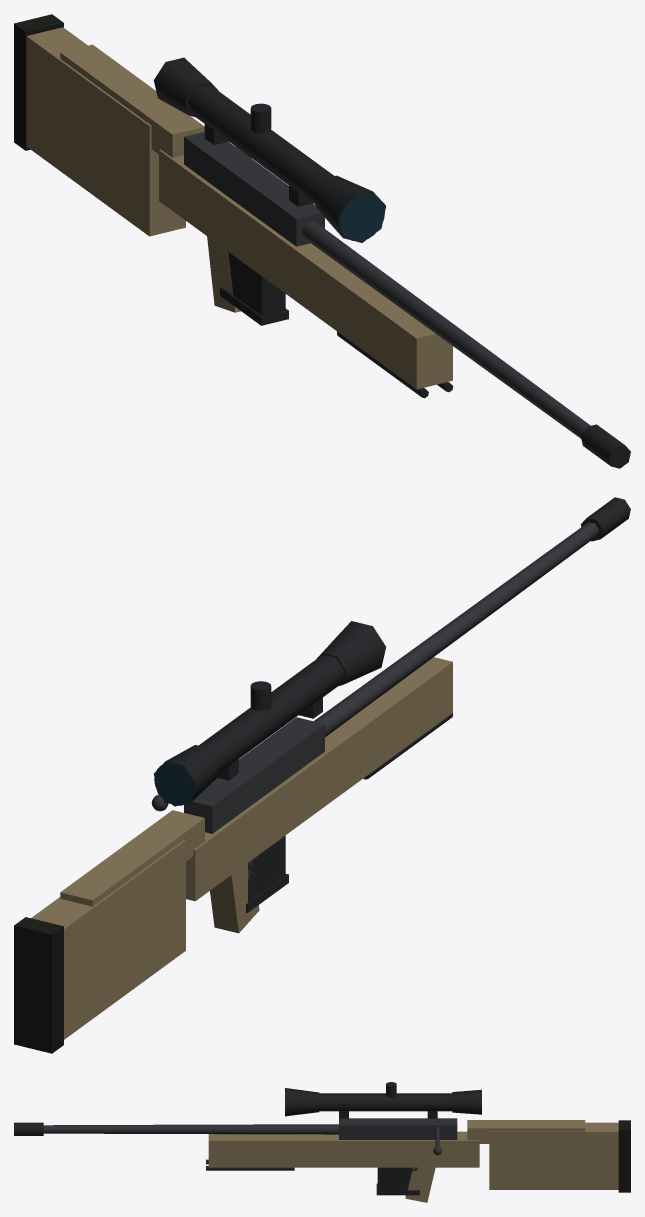
File: sniper_rifle_lod.glb
The picture shows the model from 3 angles, top to bottom: view 1: azimuth 30°, elevation 25°; view 2: azimuth 150°, elevation 25°; view 3: azimuth 270°, elevation 25°; orthographic projection. The views are drawn at different scales.
Visible parts, largest first — view 1: SniperRifleMesh; view 2: SniperRifleMesh; view 3: SniperRifleMesh.
Part boxes in pixels (box(x1,y1,x2,y2)): SniperRifleMesh: box(14, 14, 630, 468); SniperRifleMesh: box(14, 497, 630, 1053); SniperRifleMesh: box(14, 1082, 630, 1202).
Bounding box in the file's own units: 0.1086 × 0.2588 × 1.25.
